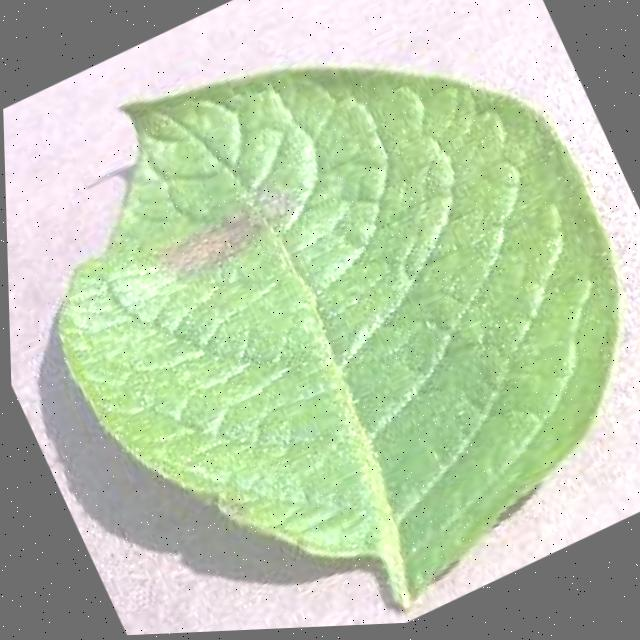Late_blight: (122, 149, 345, 304)
